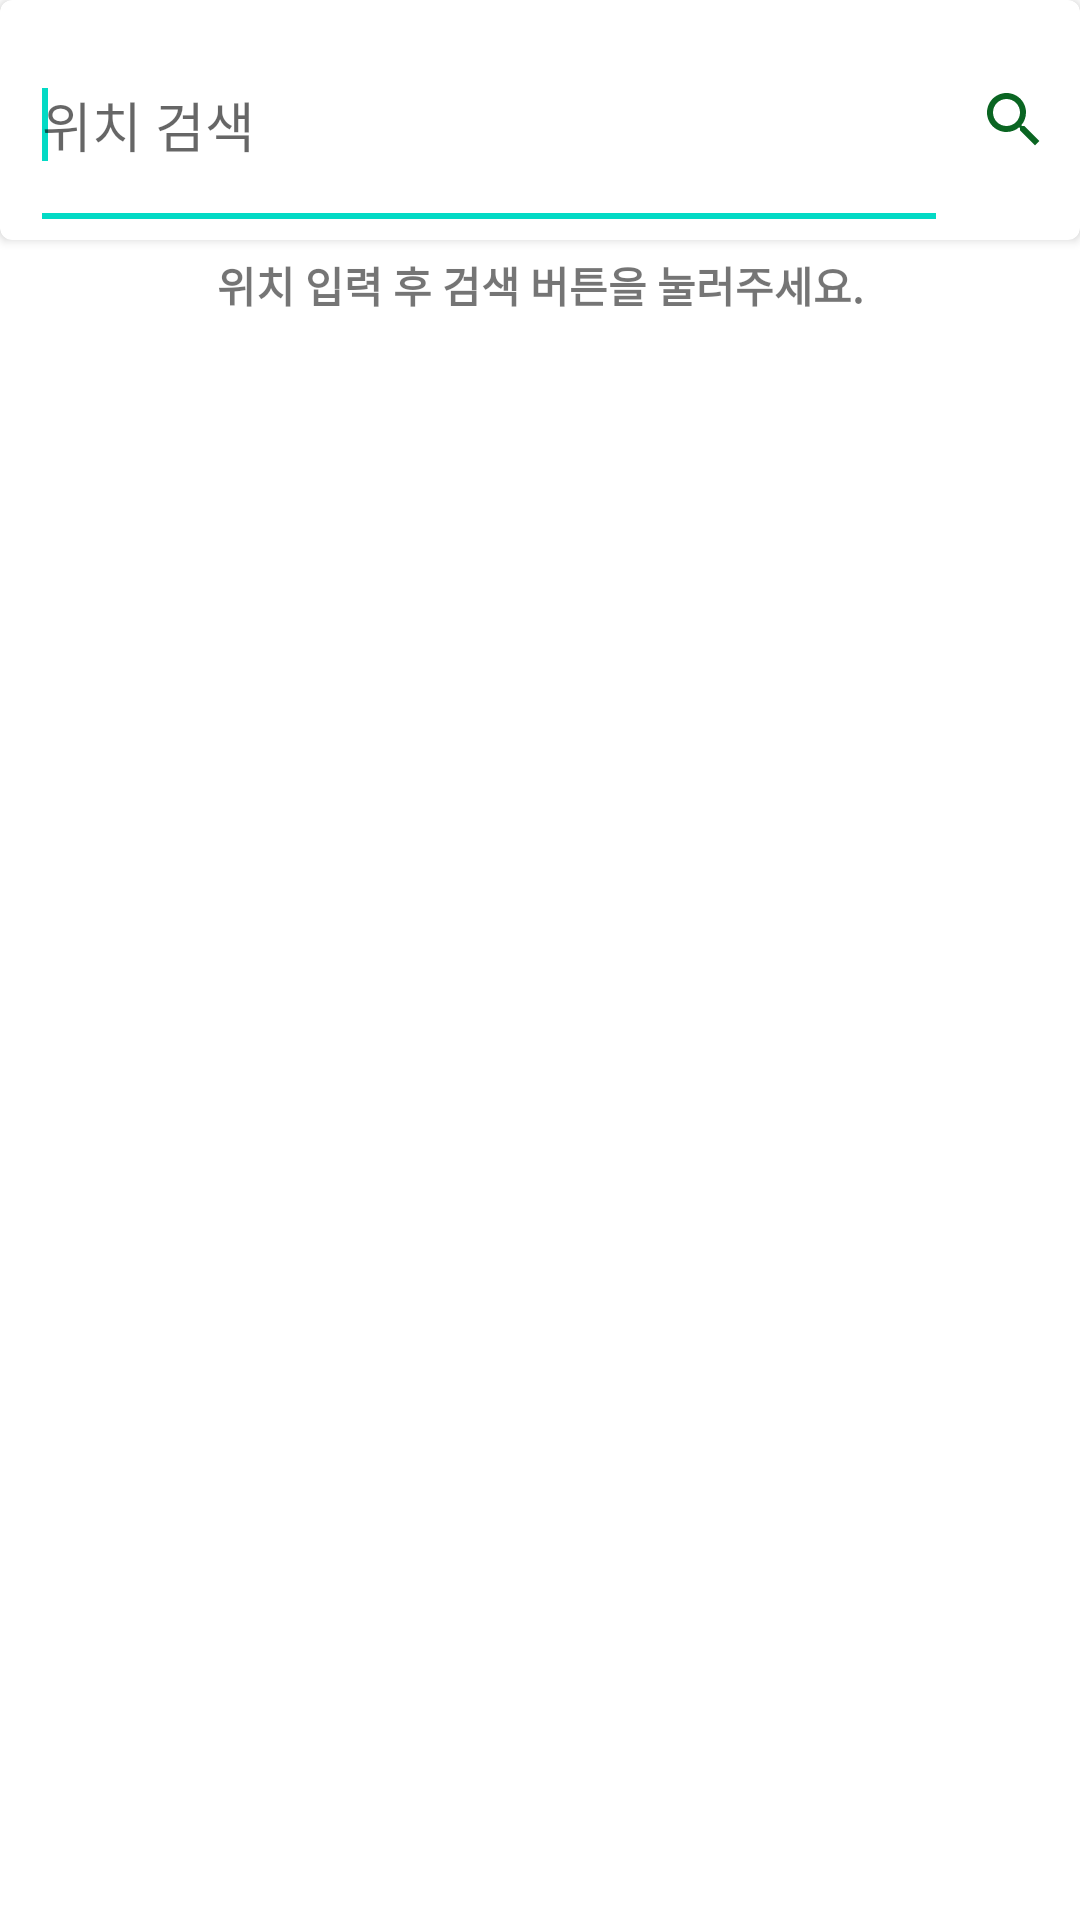

Where icons sit on this 1080*1920 app screen, as bbox(x1, y1, x2, y2):
search: bbox(987, 93, 1039, 145)
